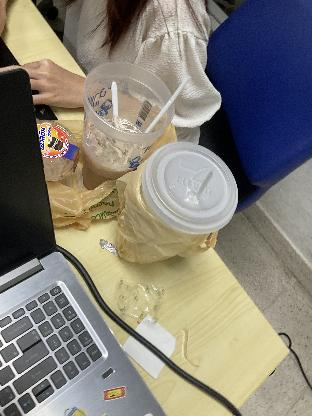Others: (38, 123, 178, 229), (80, 58, 176, 188), (112, 160, 218, 265), (142, 136, 240, 238), (120, 314, 178, 380), (35, 118, 81, 184), (114, 276, 168, 328), (96, 235, 126, 261)
